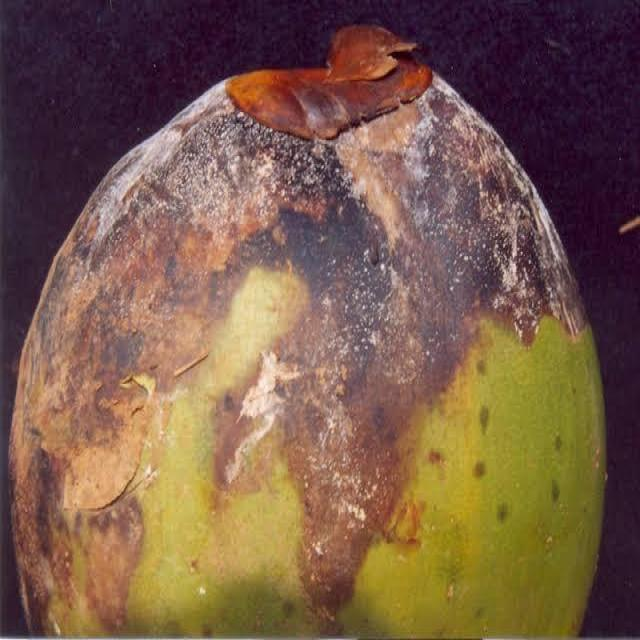damaged: (6, 24, 608, 639)
